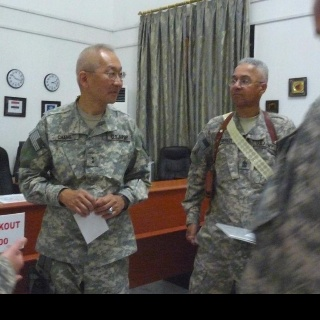without_mask: (88, 53, 123, 104), (230, 63, 260, 107)
